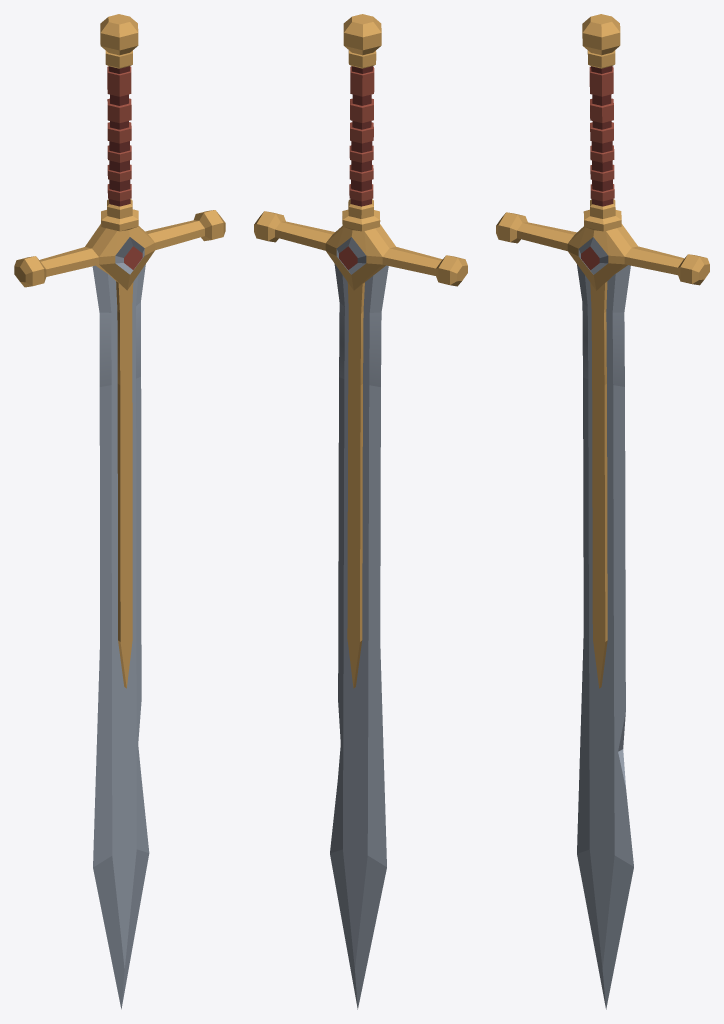
Rendered from SM_Prop_Sword_01.fbx.
The picture shows the model from 3 angles, left to right: view 1: azimuth 30°, elevation 25°; view 2: azimuth 150°, elevation 25°; view 3: azimuth 330°, elevation 25°; orthographic projection.
Parts seen in each view (by area): view 1: SM_Prop_Sword_01; view 2: SM_Prop_Sword_01; view 3: SM_Prop_Sword_01.
Part boxes in pixels (x1,y1,x2,y2): SM_Prop_Sword_01: (14,14,225,1009); SM_Prop_Sword_01: (254,14,467,1009); SM_Prop_Sword_01: (496,14,709,1009).
Bounding box in the file's own units: 46.94 × 220 × 10.49.
Materials: 1 (1 with a texture image).
